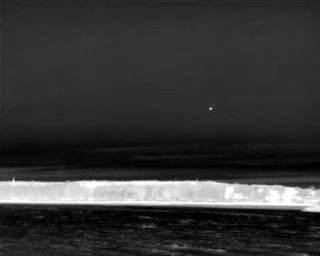HELICOPTER: (206, 104, 215, 114)
